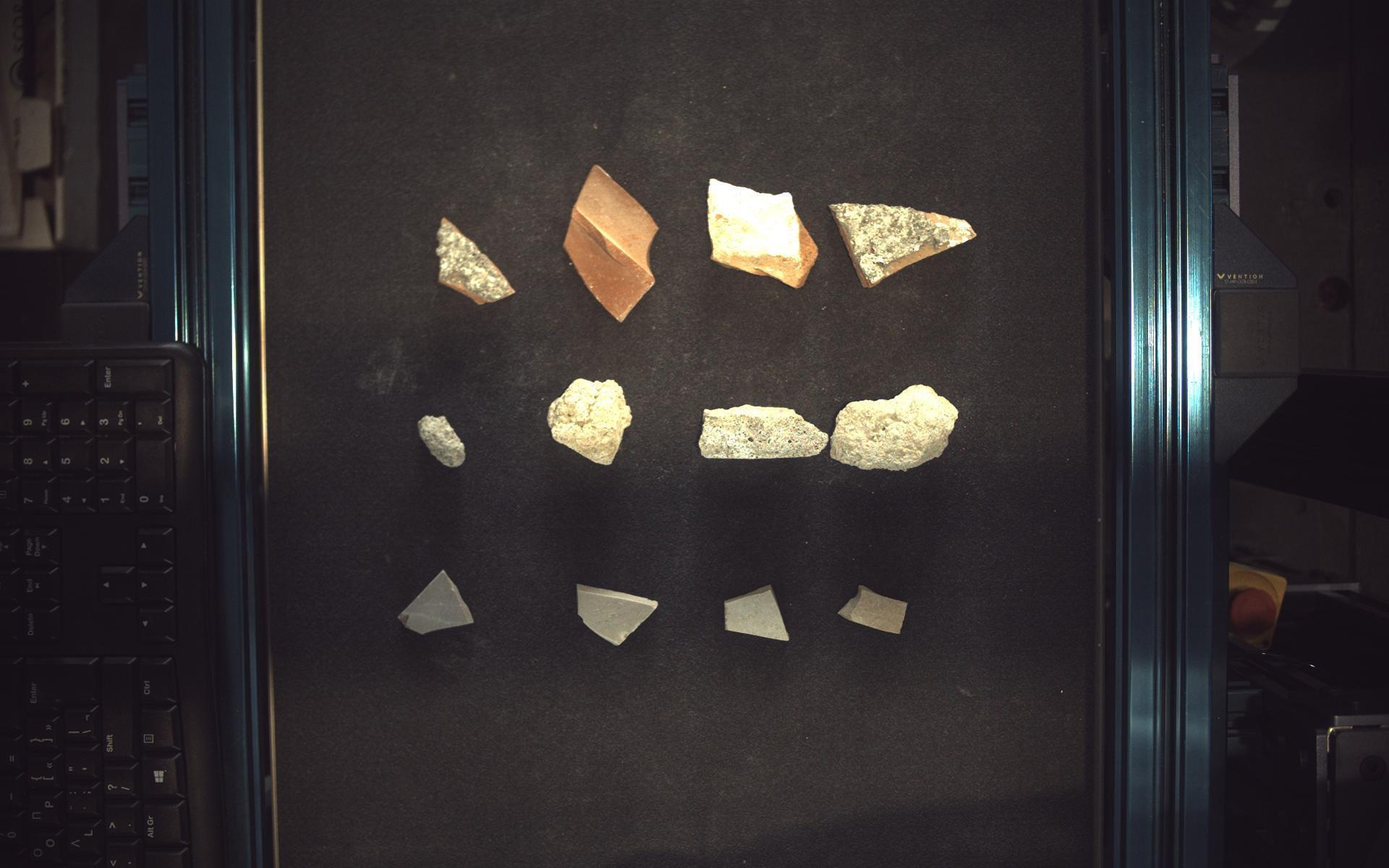brick: (565, 165, 658, 321), (831, 203, 978, 287), (709, 178, 820, 288), (436, 217, 515, 305)
concrete: (833, 385, 960, 471), (548, 378, 632, 465), (700, 404, 830, 459), (417, 417, 465, 468)
tile: (579, 585, 658, 647), (398, 571, 474, 635), (726, 587, 791, 642), (841, 586, 909, 635)
